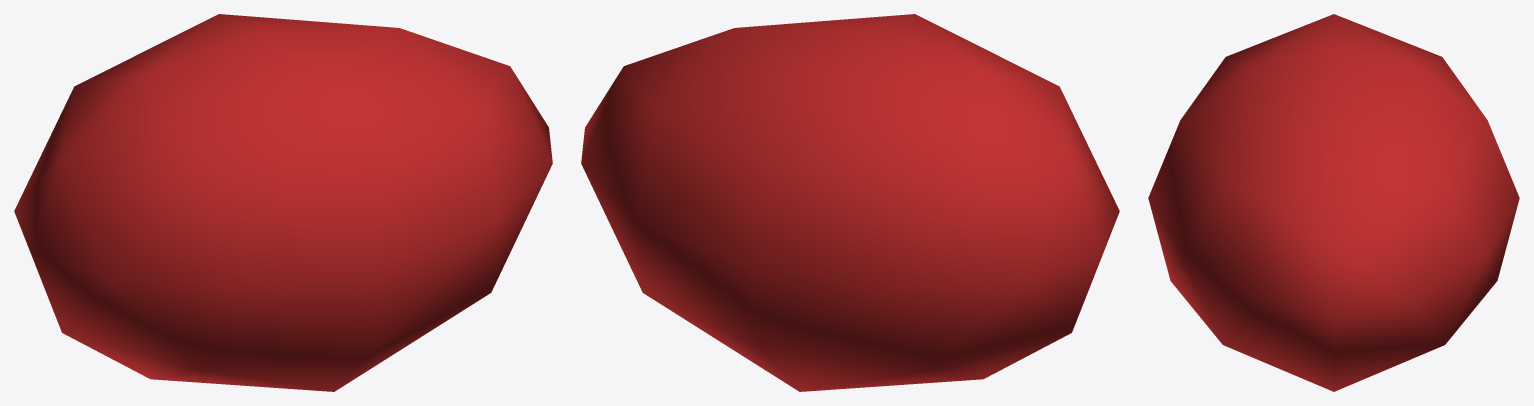
Rendered from SM_fruit_04.fbx.
3 renders of one model, left to right at view 1: azimuth 30°, elevation 25°; view 2: azimuth 150°, elevation 25°; view 3: azimuth 270°, elevation 25°, orthographic. The views are drawn at different scales.
Visible parts, largest first — view 1: GeoSphere006; view 2: GeoSphere006; view 3: GeoSphere006.
Part boxes in pixels (left/top/right/bottom): GeoSphere006: left=14, top=14, right=552, bottom=391; GeoSphere006: left=581, top=14, right=1119, bottom=391; GeoSphere006: left=1148, top=14, right=1519, bottom=391.
Size of the model in its own units: 8.33 by 5.42 by 5.91.
